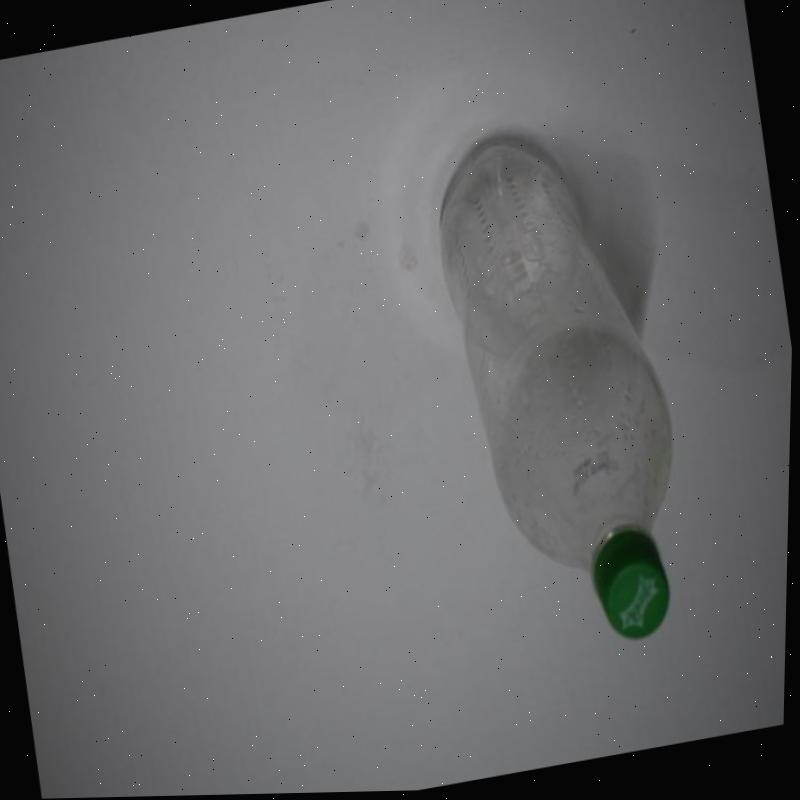botella: (415, 120, 712, 667)
